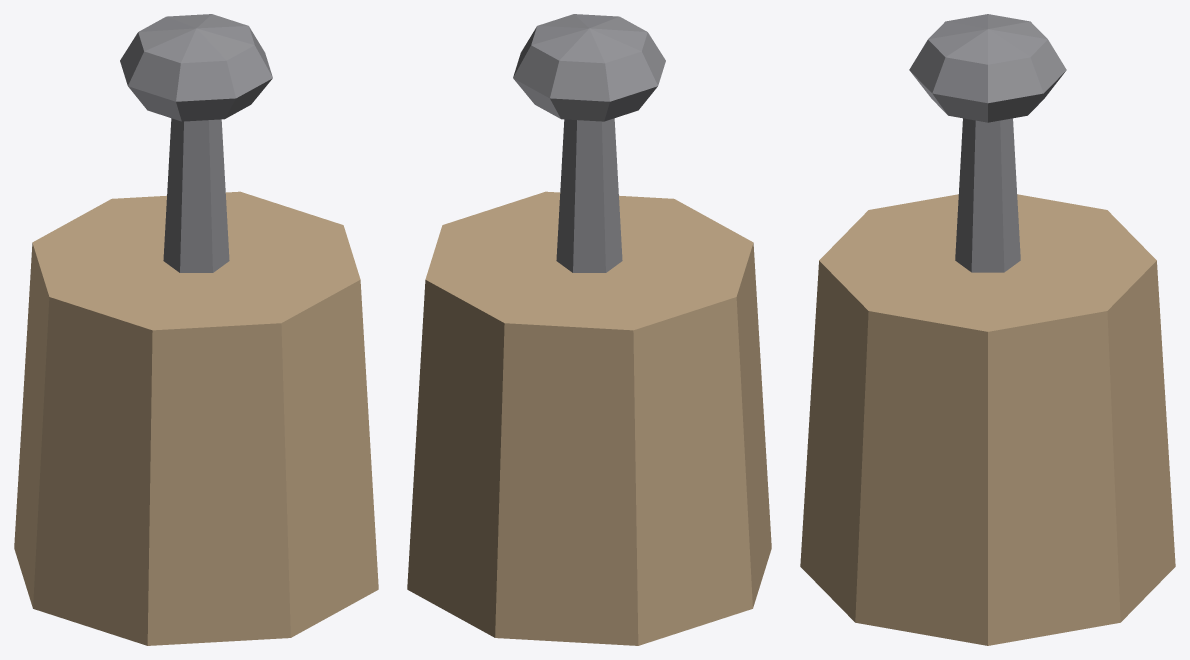
Rendered from prop-rivet-anvil-hm1.fbx.
3 renders of one model, left to right at view 1: azimuth 30°, elevation 25°; view 2: azimuth 150°, elevation 25°; view 3: azimuth 270°, elevation 25°, orthographic.
Visible parts, largest first — view 1: prop-rivet-anvil-hm1; view 2: prop-rivet-anvil-hm1; view 3: prop-rivet-anvil-hm1.
Part boxes in pixels (left/top/right/bottom): prop-rivet-anvil-hm1: left=14, top=14, right=378, bottom=645; prop-rivet-anvil-hm1: left=407, top=14, right=771, bottom=645; prop-rivet-anvil-hm1: left=800, top=14, right=1175, bottom=645.
Bounding box in the file's own units: 20 × 31.6 × 20.
